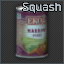Can of squash spread: (0, 0, 64, 64)
